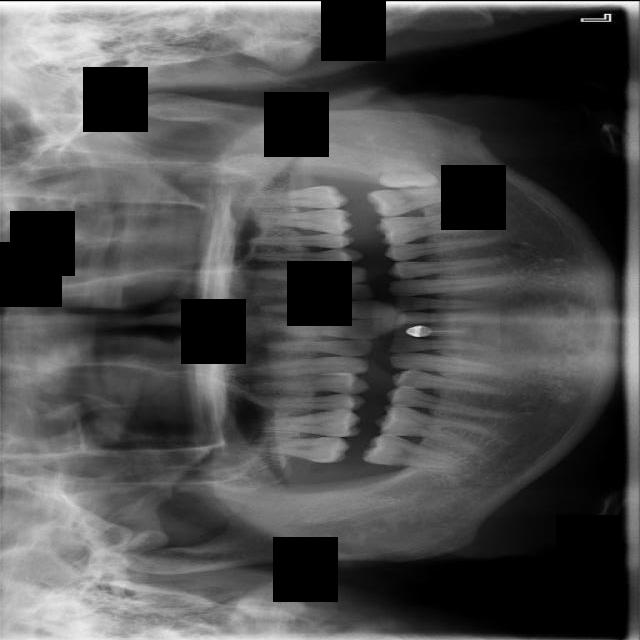52: (394, 323, 434, 337)
73: (427, 325, 470, 335), (583, 28, 586, 39)
BioHorizons Implant: (241, 185, 348, 208)
Biomet 3i Implant: (378, 158, 440, 189)
Blue Sky Bio Implant: (366, 181, 467, 219)
Caries: (245, 434, 351, 464)
Implant: (361, 430, 474, 473)
